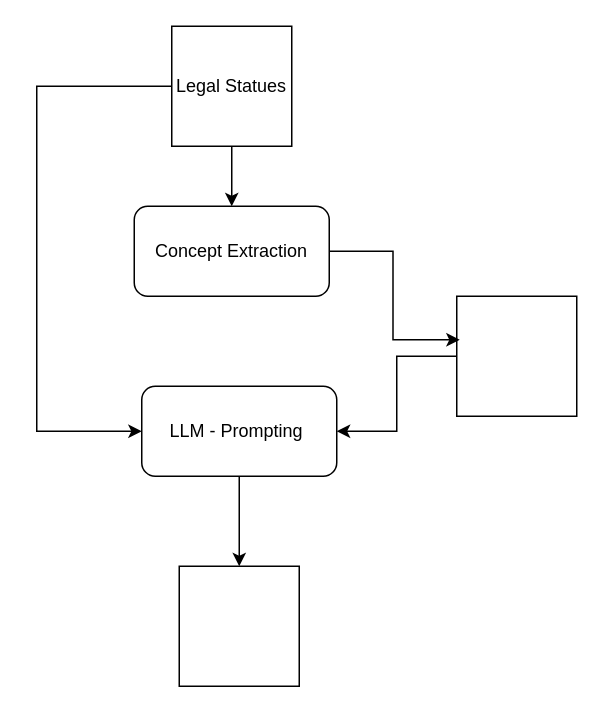
This 603x713 diagram has some shape labels left out. The centre of each missing label's shape, as x and y in pixels:
"Logical Rule Set (Grammer)" goes at point 238,625.
"Ontology Knowledge Graph (Vocabulary)" goes at point 516,355.
